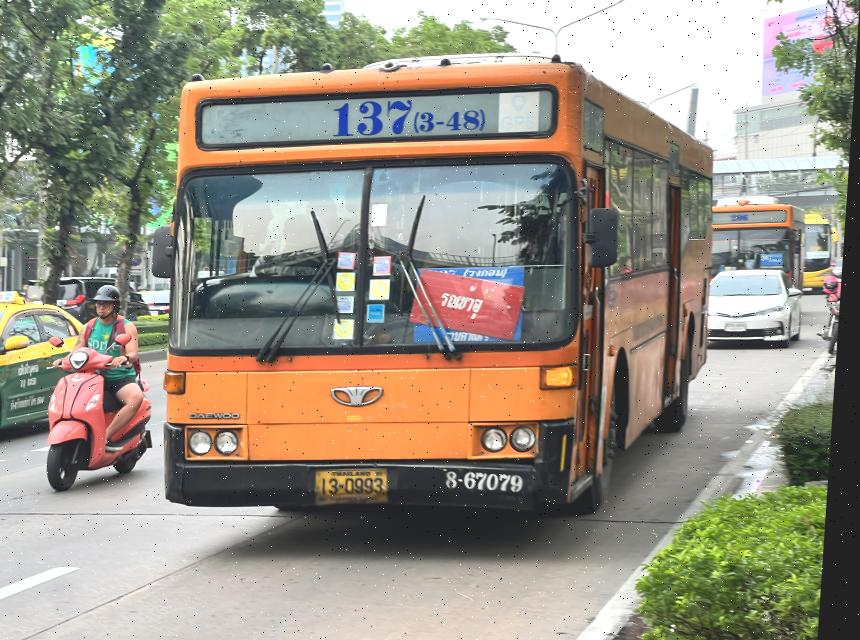BMTA-bus: (167, 58, 718, 517)
Bus Line Number: (325, 91, 494, 144)
Bus Side Number: (444, 468, 535, 498)
Destination Sign: (413, 268, 531, 345)
